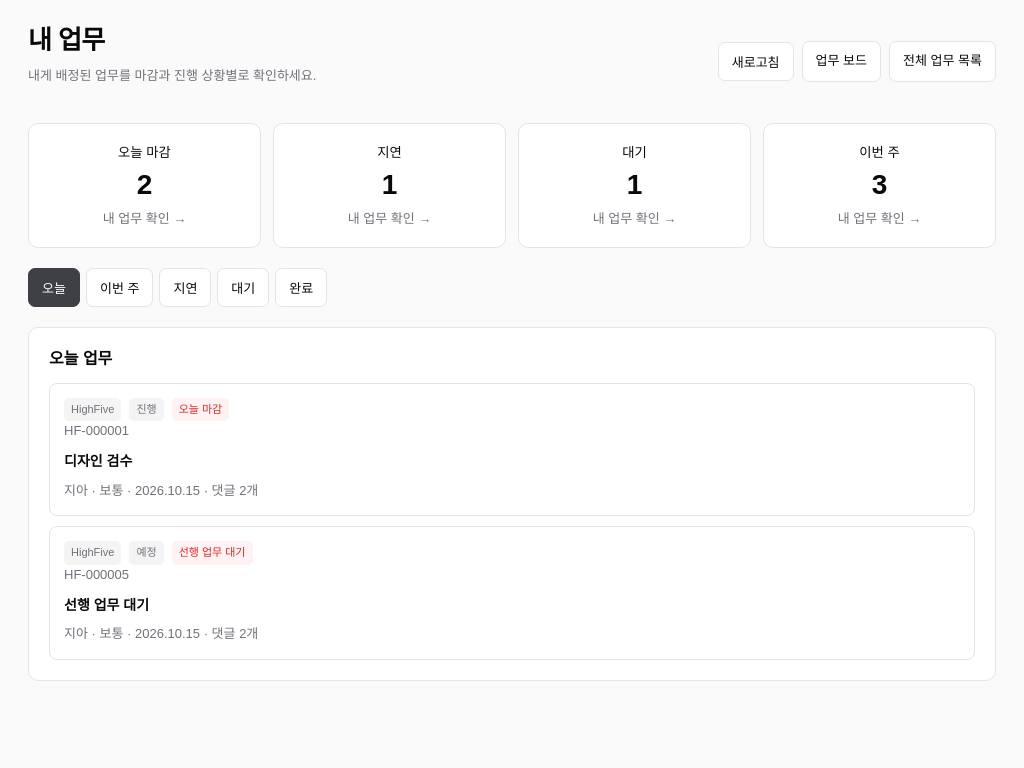
Test case: 주요 업무 UI › 내 업무 필터는 본인 업무만 보여주며 커스텀 완료를 포함한다
Click the tab "지연" at (185, 288), box 159,268 -> 211,307
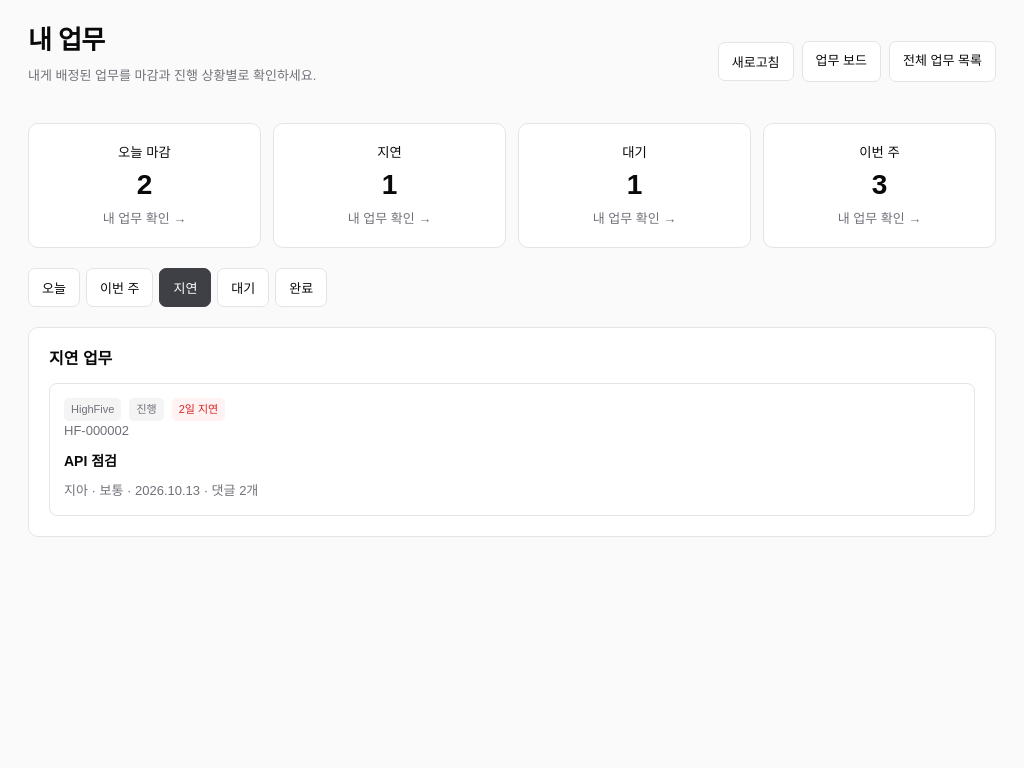
Expected: the text "완료된 검토" is not shown
Expected: the text "API 점검" is shown, 64,453 -> 117,469
Click the tab "완료" at (301, 288), box 275,268 -> 327,307
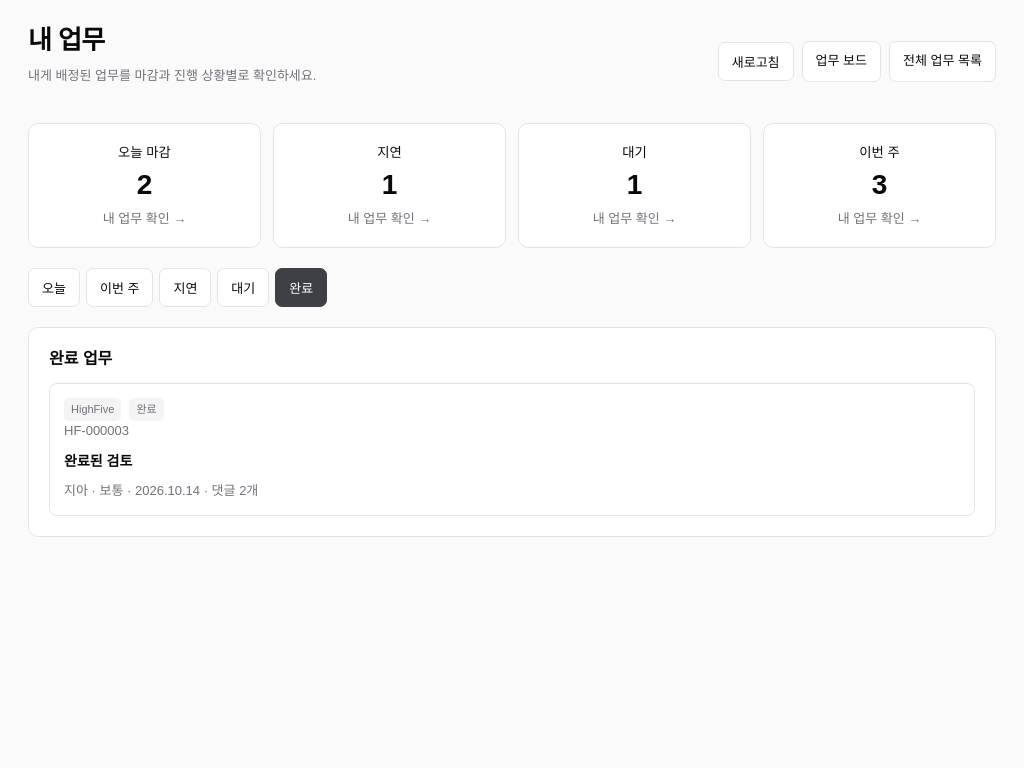
Expected: the text "완료된 검토" is shown, 64,453 -> 132,469
